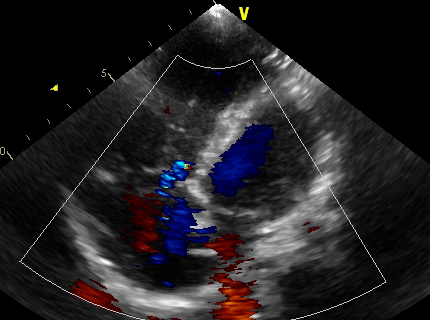TR: (138, 154, 206, 222)
